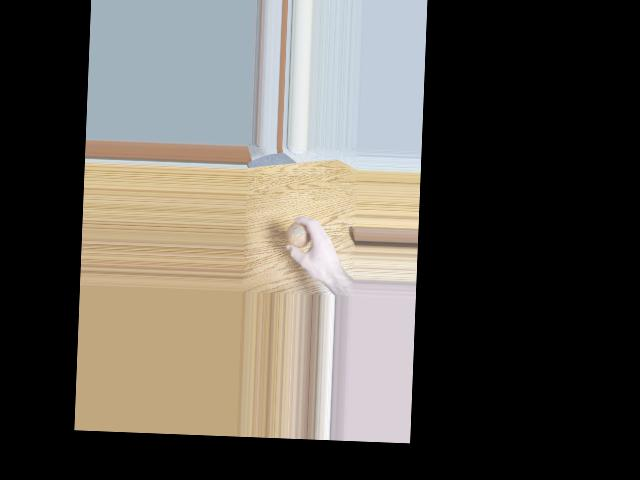onion: (285, 221, 310, 248)
